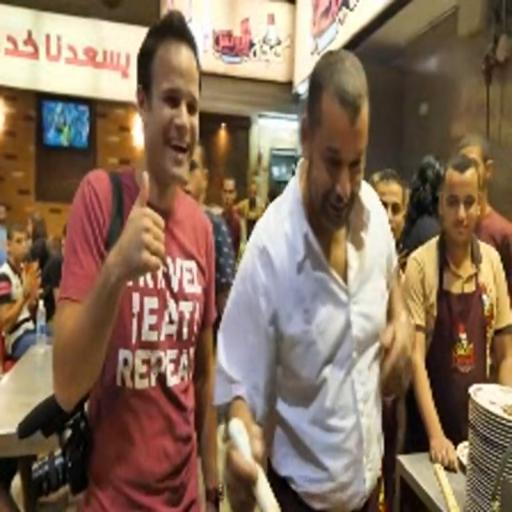nao-violencia: (44, 3, 421, 512)
